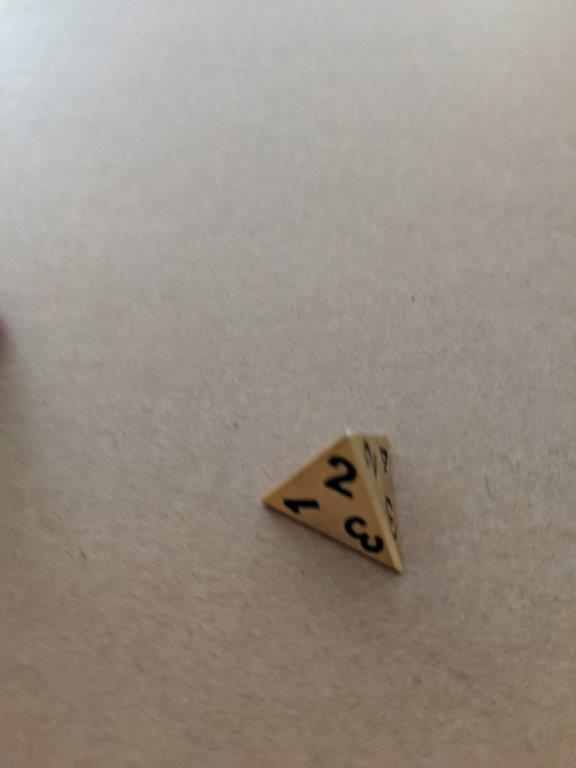d4-2: (257, 426, 407, 584)
